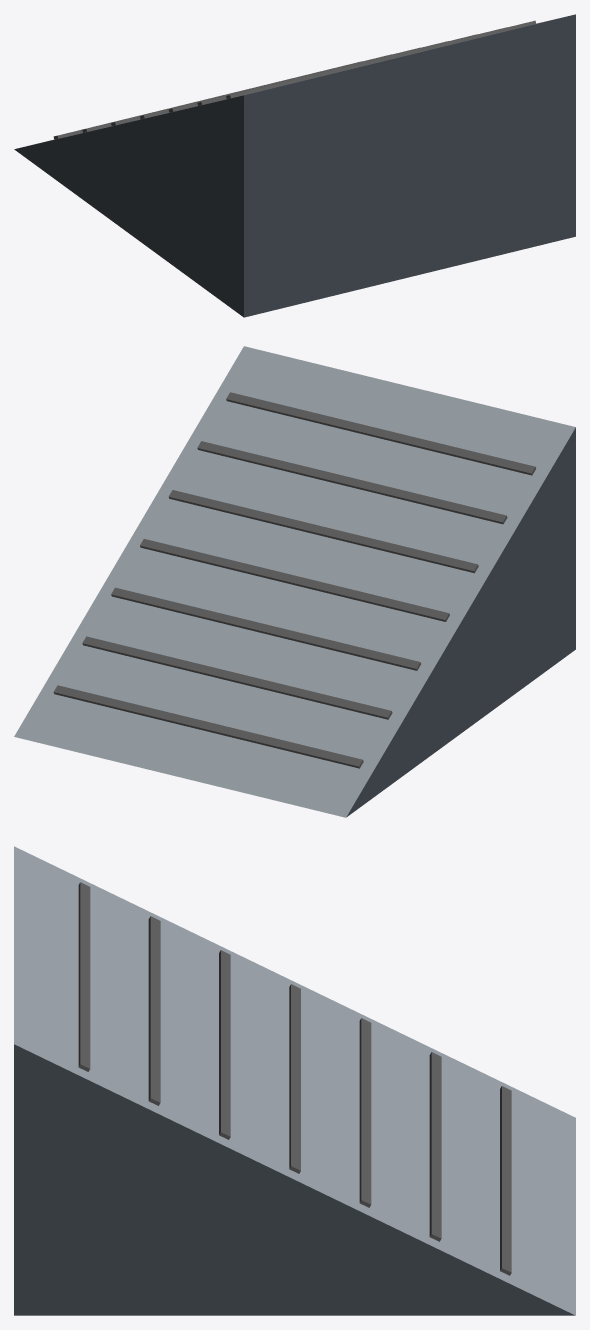
File: PRP_RampWedge.fbx
3 renders of one model, top to bottom at view 1: azimuth 30°, elevation 25°; view 2: azimuth 150°, elevation 25°; view 3: azimuth 270°, elevation 25°, orthographic. The views are drawn at different scales.
Parts seen in each view (by area): view 1: PRP_RampWedge; view 2: PRP_RampWedge; view 3: PRP_RampWedge.
Boxes of the visible parts, x1,y1,x2,y2 form: PRP_RampWedge: (14,14,575,317); PRP_RampWedge: (14,346,575,817); PRP_RampWedge: (14,846,575,1315).
Bounding box in the file's own units: 5 × 3.2 × 6.
